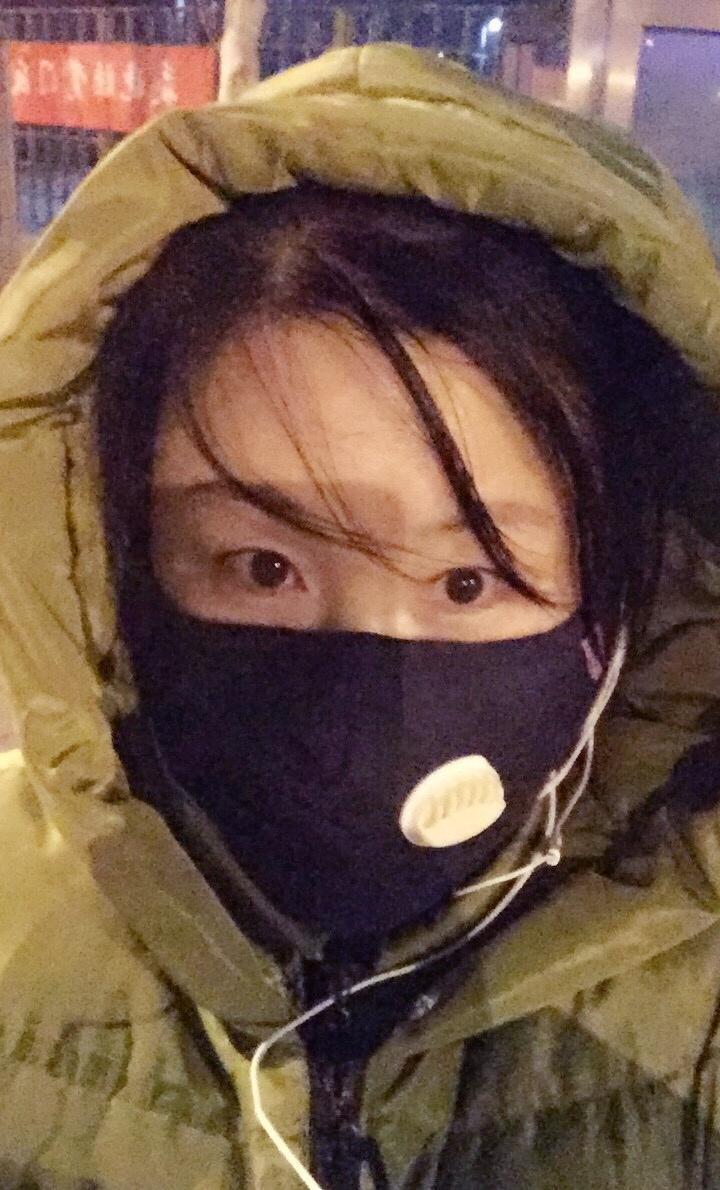OK: (87, 401, 626, 940)
